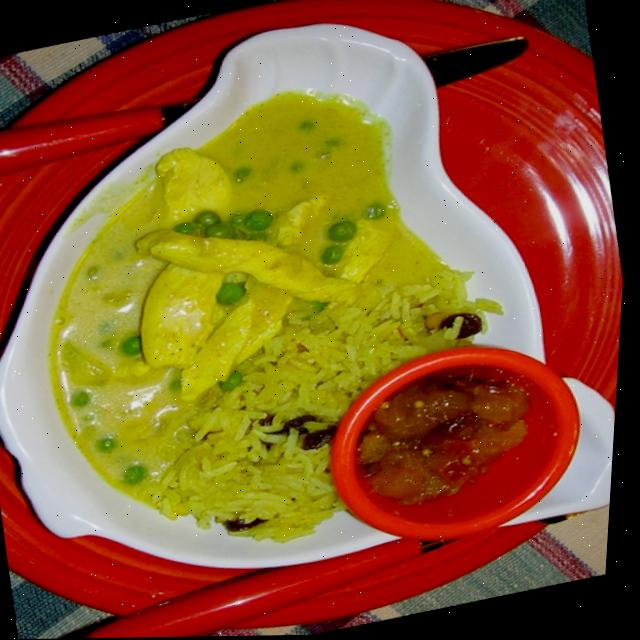米饭主食: (0, 12, 625, 637)
